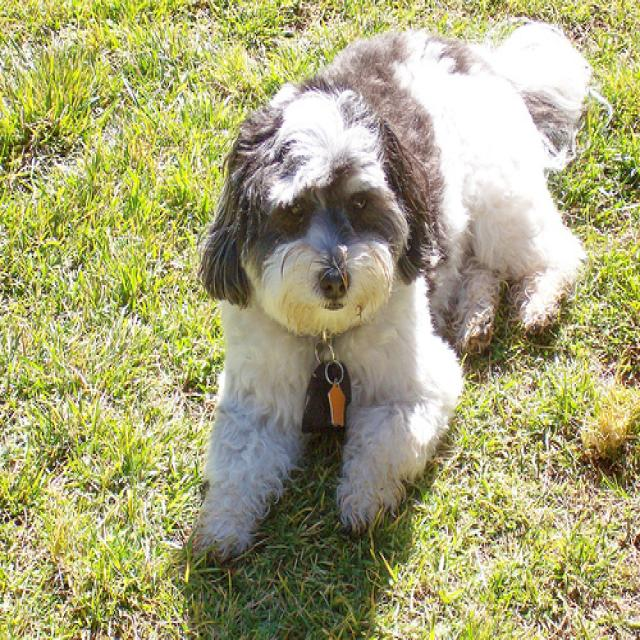dog: (197, 78, 437, 333)
